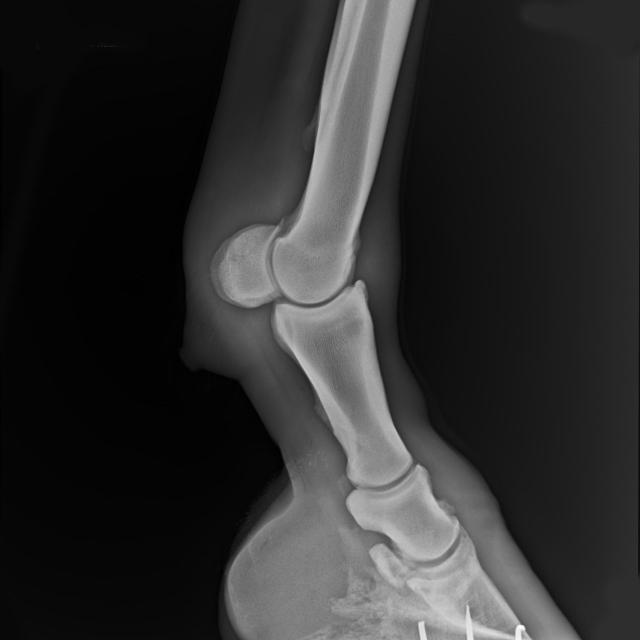joint-ht8A: (196, 177, 414, 387)
